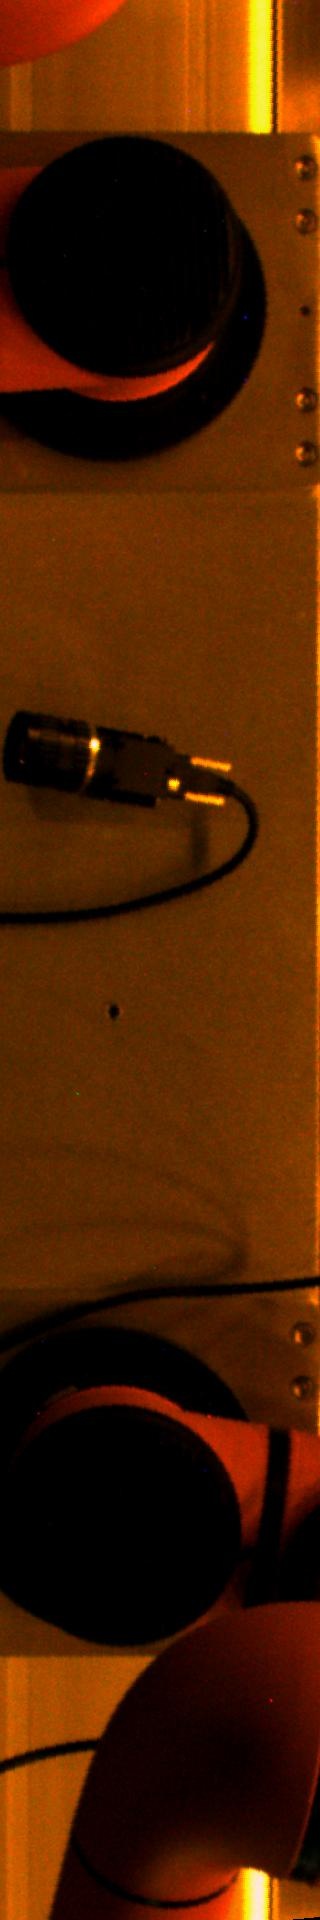keyPoint_2: (98, 997, 128, 1027)
